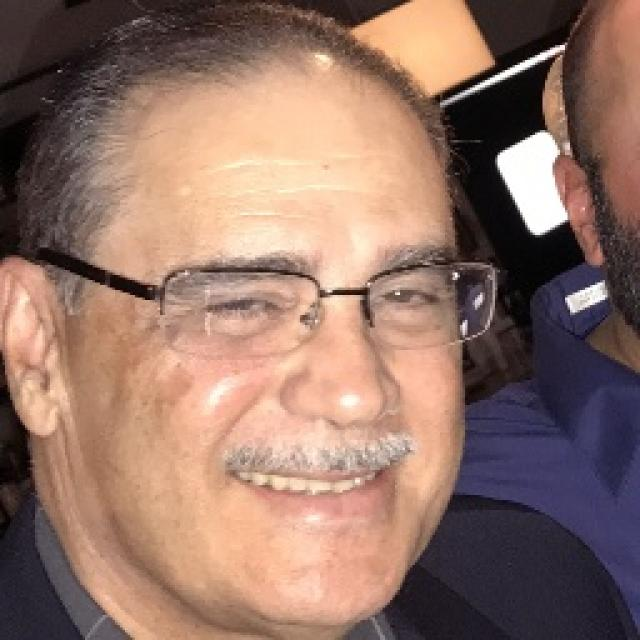earlobe: (14, 399, 63, 439), (584, 250, 608, 270)
eye: (206, 295, 282, 321), (377, 284, 440, 310)
nose: (284, 405, 393, 451)
wholeear: (0, 257, 63, 438), (551, 154, 609, 270)
